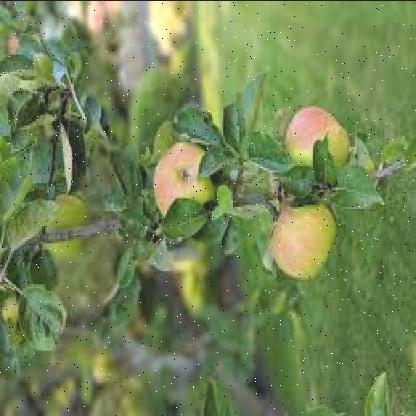apple: (148, 140, 216, 230), (276, 105, 346, 180), (270, 204, 332, 278)
